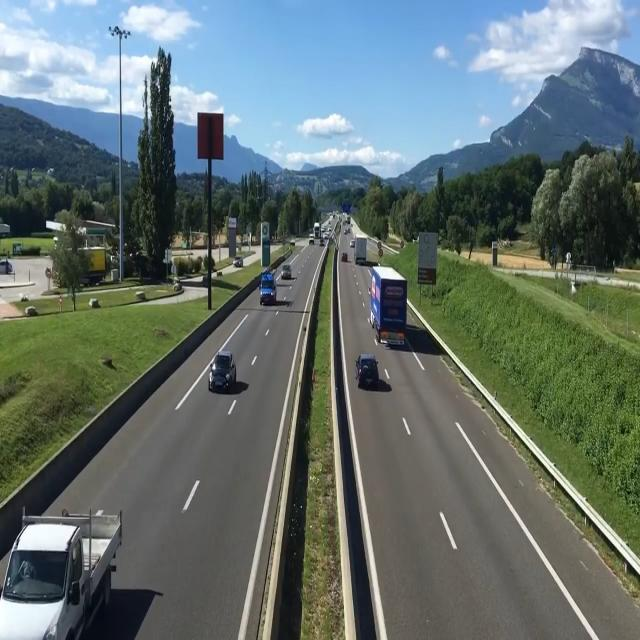car: (0, 509, 116, 640), (211, 347, 244, 397), (355, 349, 381, 393), (258, 266, 278, 308)
truck: (370, 266, 410, 352), (352, 230, 374, 268)
